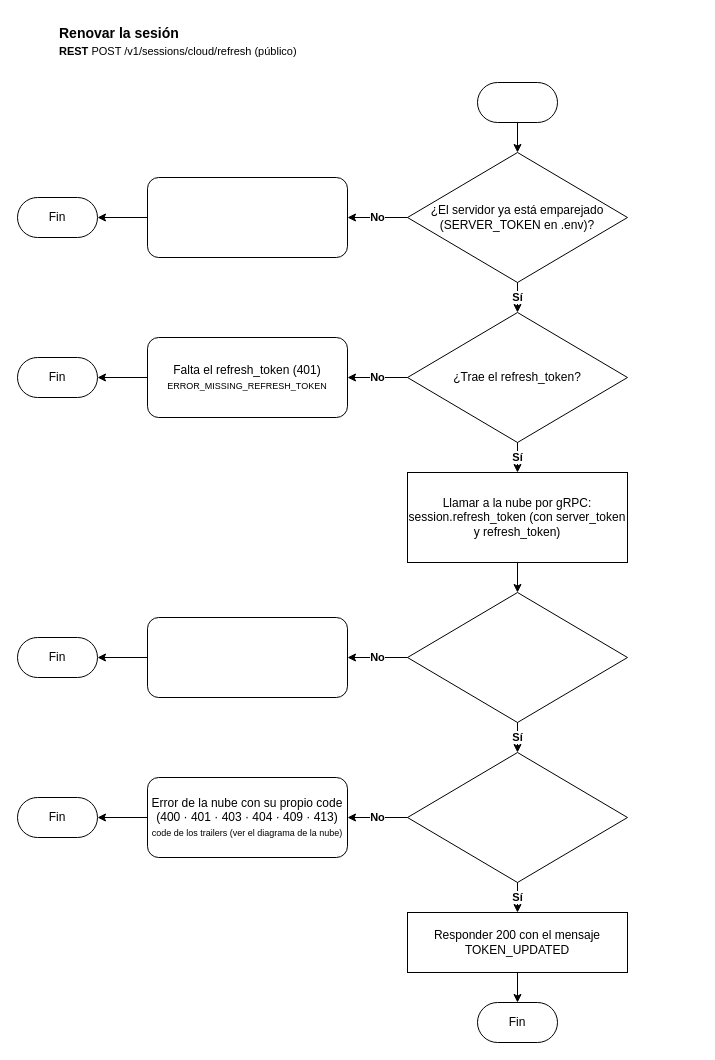
Some shapes in this 715 by 1060 pixel diagram are drawn without their labels. Each missing label, with the centre of its shape:
Inicio: point (517, 102)
La nube no responde (503) ERROR_CLOUD_UNAVAILABLE: point (247, 657)
Servidor sin emparejar (409) ERROR_SERVER_NOT_PAIRED: point (247, 217)
¿La nube acepta la petición?: point (517, 817)
¿La nube responde antes de 10 s?: point (517, 657)
